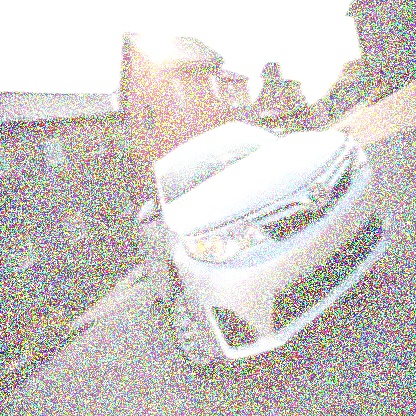Vehicle: (137, 121, 394, 380)
